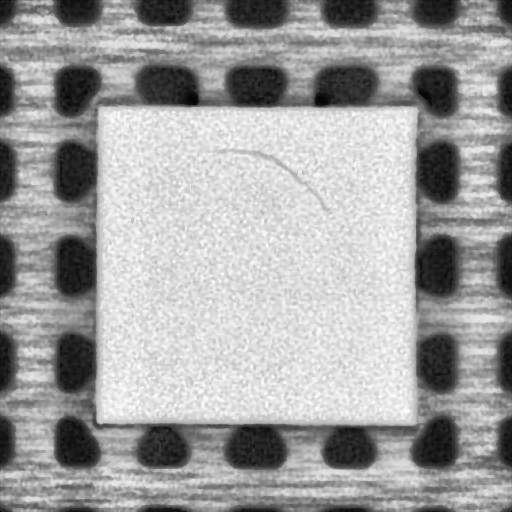DIE_CRACK: (217, 144, 329, 210)
